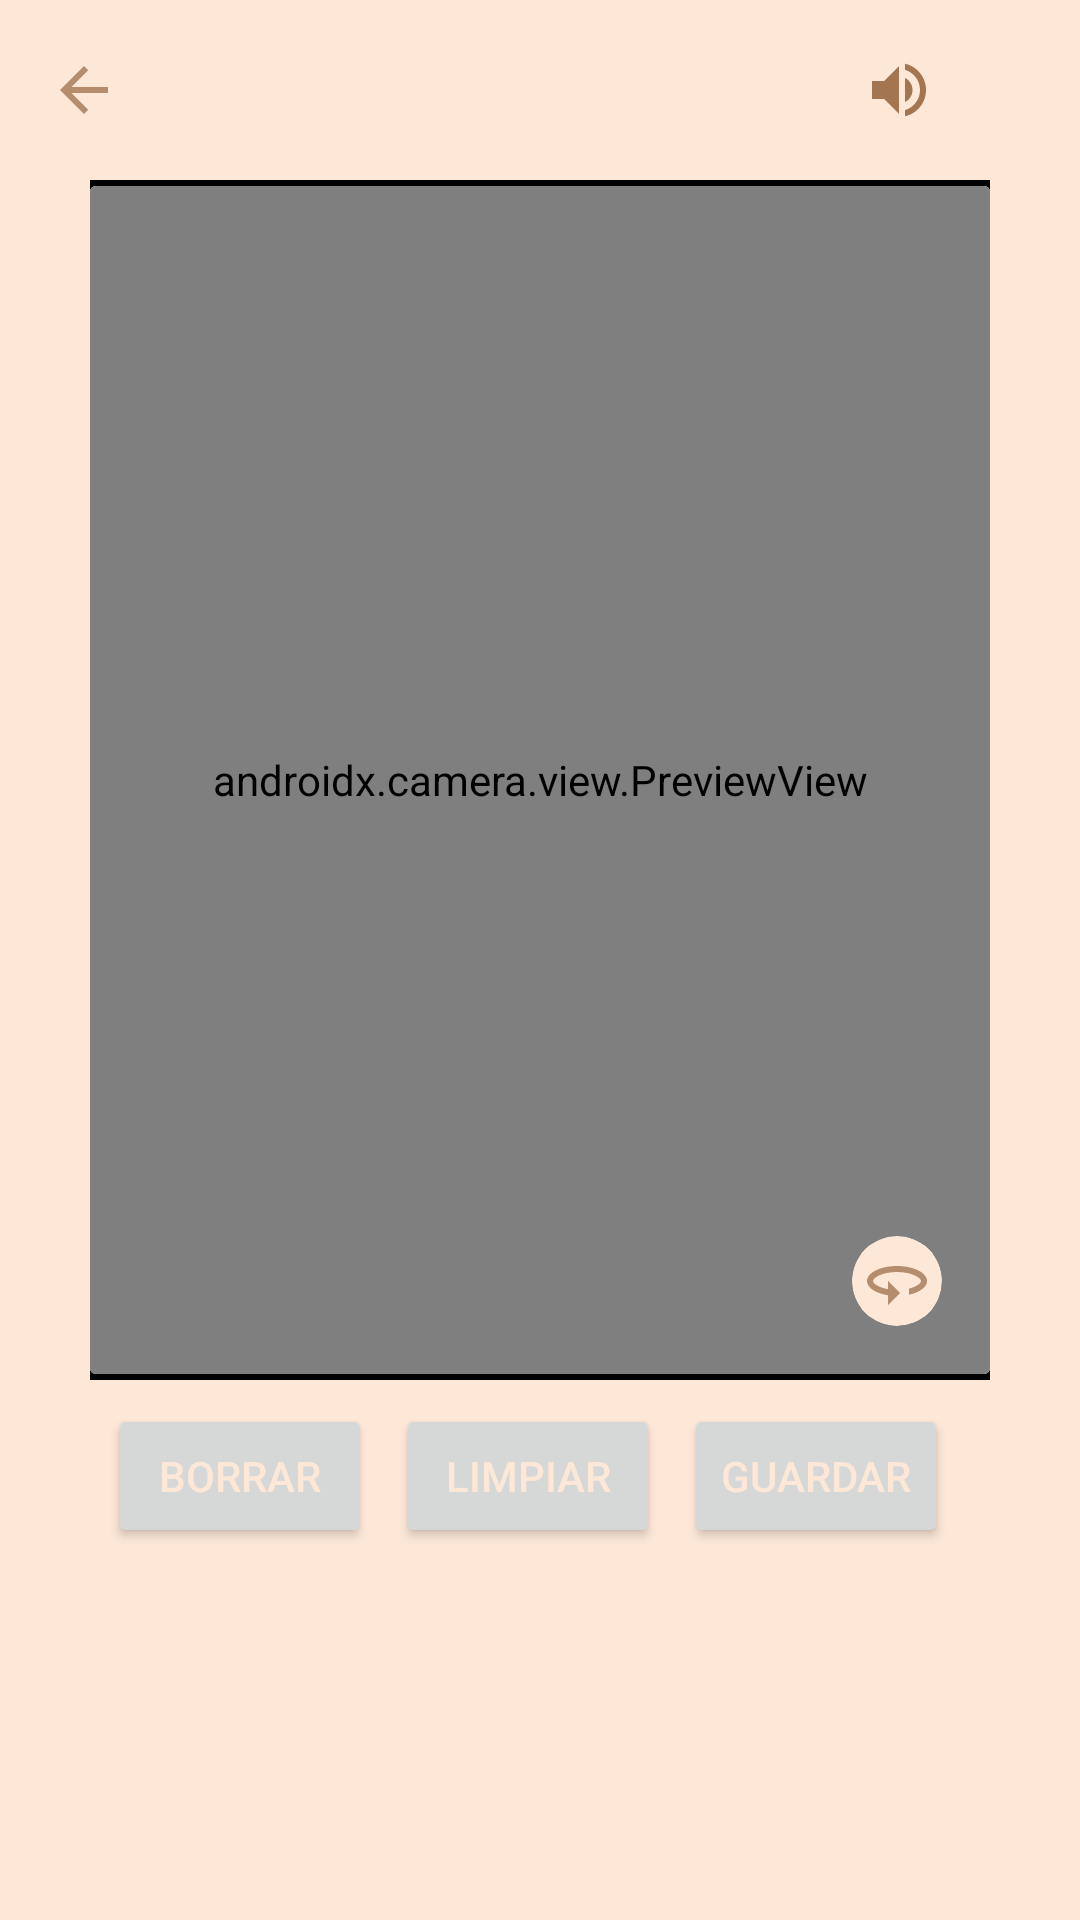

Screen size 1080*1920. Icon name, then its box in pixels as (x1, y1, x2, y2):
arrow back: (60, 66, 108, 114)
volume up: (872, 63, 926, 117)
